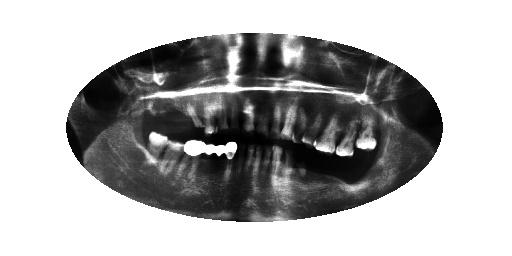i10decay: (244, 144, 254, 179)
i11loss: (236, 144, 245, 181)
i12healthy: (220, 142, 238, 184)
i13healthy: (204, 143, 226, 184)
i14healthy: (182, 137, 209, 183)
i15chipped: (161, 140, 187, 175)
i16healthy: (144, 129, 169, 167)
i1loss: (366, 154, 388, 185)
i2loss: (342, 153, 366, 189)
i3loss: (322, 146, 341, 185)
i4loss: (308, 147, 321, 183)
i5loss: (294, 145, 307, 182)
i6chipped: (283, 145, 293, 181)
i7healthy: (272, 145, 282, 181)
i8decay: (264, 145, 271, 181)
i9decay: (253, 145, 264, 181)
u10decay: (241, 92, 255, 136)
u11chipped: (228, 90, 239, 135)
u12decay: (218, 91, 228, 135)
u13decay: (204, 91, 217, 135)
u14loss: (186, 91, 203, 135)
u15loss: (165, 91, 185, 135)
u16loss: (141, 93, 165, 130)
u1loss: (378, 113, 392, 152)
u2healthy: (354, 110, 379, 152)
u3healthy: (333, 114, 365, 157)
u4healthy: (312, 109, 343, 153)
u5healthy: (302, 103, 321, 146)
u6deay: (296, 99, 308, 142)
u7healthy: (281, 97, 297, 141)
u8decay: (270, 97, 281, 140)
u9loss: (255, 93, 269, 140)
